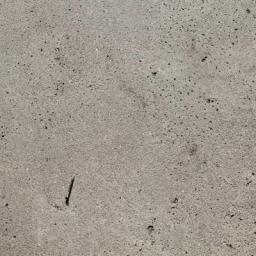FOD: (63, 172, 79, 211)
